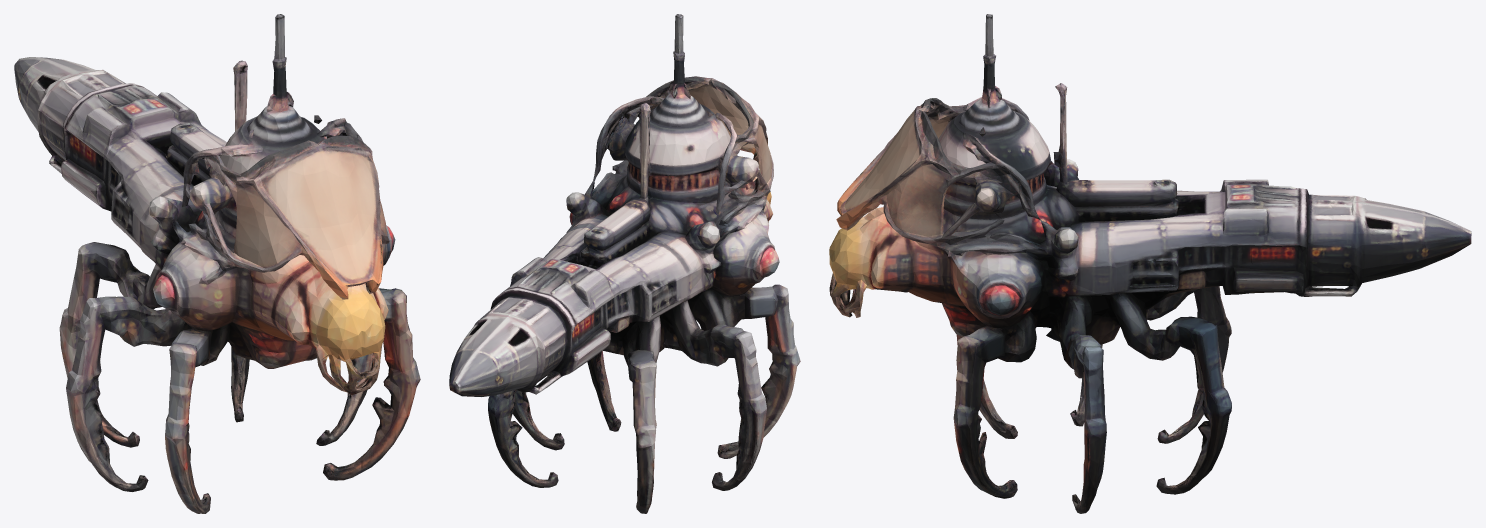
The model's file is Locust Gunship.glb.
The picture shows the model from 3 angles, left to right: view 1: azimuth 30°, elevation 25°; view 2: azimuth 150°, elevation 25°; view 3: azimuth 270°, elevation 25°; orthographic projection. The views are drawn at different scales.
Visible parts, largest first — view 1: world; view 2: world; view 3: world.
Part boxes in pixels (x1=…): world: x1=14, y1=14, x2=420, y2=513; world: x1=449, y1=14, x2=800, y2=513; world: x1=829, y1=14, x2=1471, y2=513.
Bounding box in the file's own units: 0.518 × 0.7791 × 0.9994.
1 material, 1 textured.
